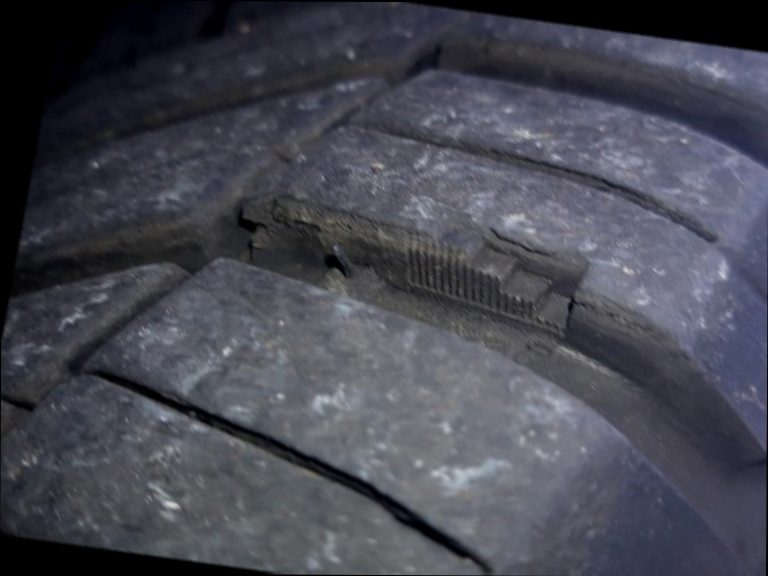temoin:80: (380, 194, 612, 349)
